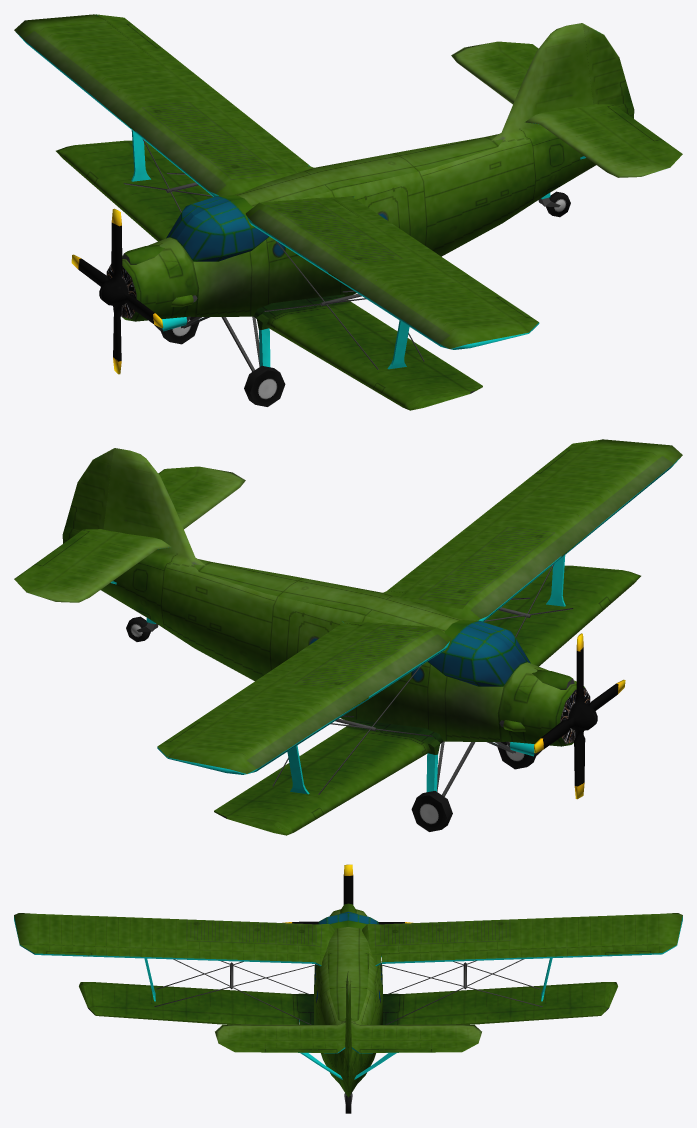
The model's file is biplane.glb.
3 views of the same model, one above another, from view 1: azimuth 30°, elevation 25°; view 2: azimuth 150°, elevation 25°; view 3: azimuth 270°, elevation 25° (orthographic). The views are drawn at different scales.
Visible parts, largest first — view 1: An2, Aileron_UR, Elevator, Aileron_UL, Prop, Rudder, Aileron_BL, WheelL, Aileron_BR; view 2: An2, Aileron_UL, Aileron_UR, Elevator, Prop, Rudder, Aileron_BR, WheelR, Aileron_BL; view 3: An2, Aileron_UL, Aileron_UR, Elevator, Aileron_BR, Aileron_BL, Rudder, Prop.
Boxes of the visible parts, x1,y1,x2,y2 form: An2: (14,14,670,410); Aileron_UR: (96,14,309,168); Elevator: (499,41,682,166); Aileron_UL: (334,198,539,332); Prop: (71,208,163,374); Rudder: (583,23,634,118); Aileron_BL: (330,302,482,393); WheelL: (244,365,285,406); Aileron_BR: (126,140,212,201); An2: (26,439,682,835); Aileron_UL: (387,439,600,593); Aileron_UR: (157,623,361,758); Elevator: (14,466,197,591); Prop: (534,633,625,799); Rudder: (62,448,113,543); Aileron_BR: (214,727,367,818); WheelR: (411,791,452,831); Aileron_BL: (484,565,569,626); An2: (14,903,682,1103); Aileron_UL: (20,944,315,963); Aileron_UR: (382,944,676,963); Elevator: (219,1039,477,1053); Aileron_BR: (397,1006,608,1024); Aileron_BL: (88,1006,298,1024); Rudder: (343,981,353,1097); Prop: (282,864,412,924).
Size of the model in its own units: 12.65 by 5.98 by 18.2.
Materials: 1 (1 with a texture image).
